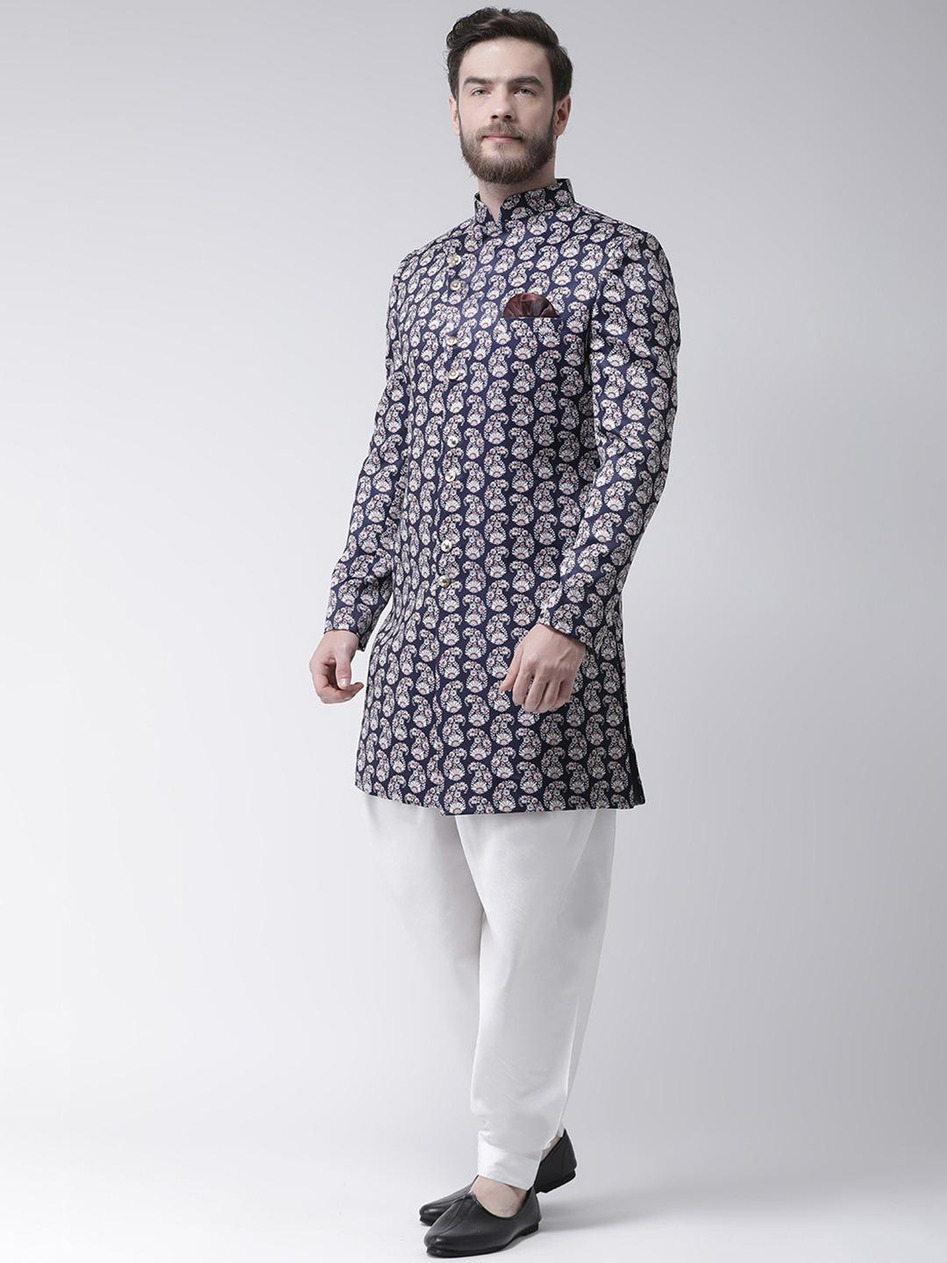Design Sherwani: (319, 182, 684, 816)
